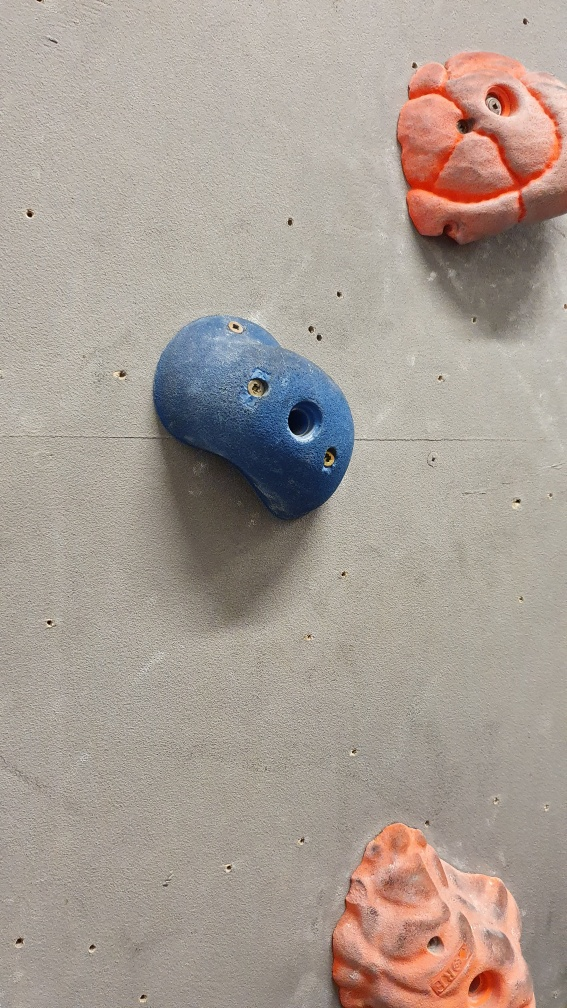Sloper: (152, 312, 360, 520)
